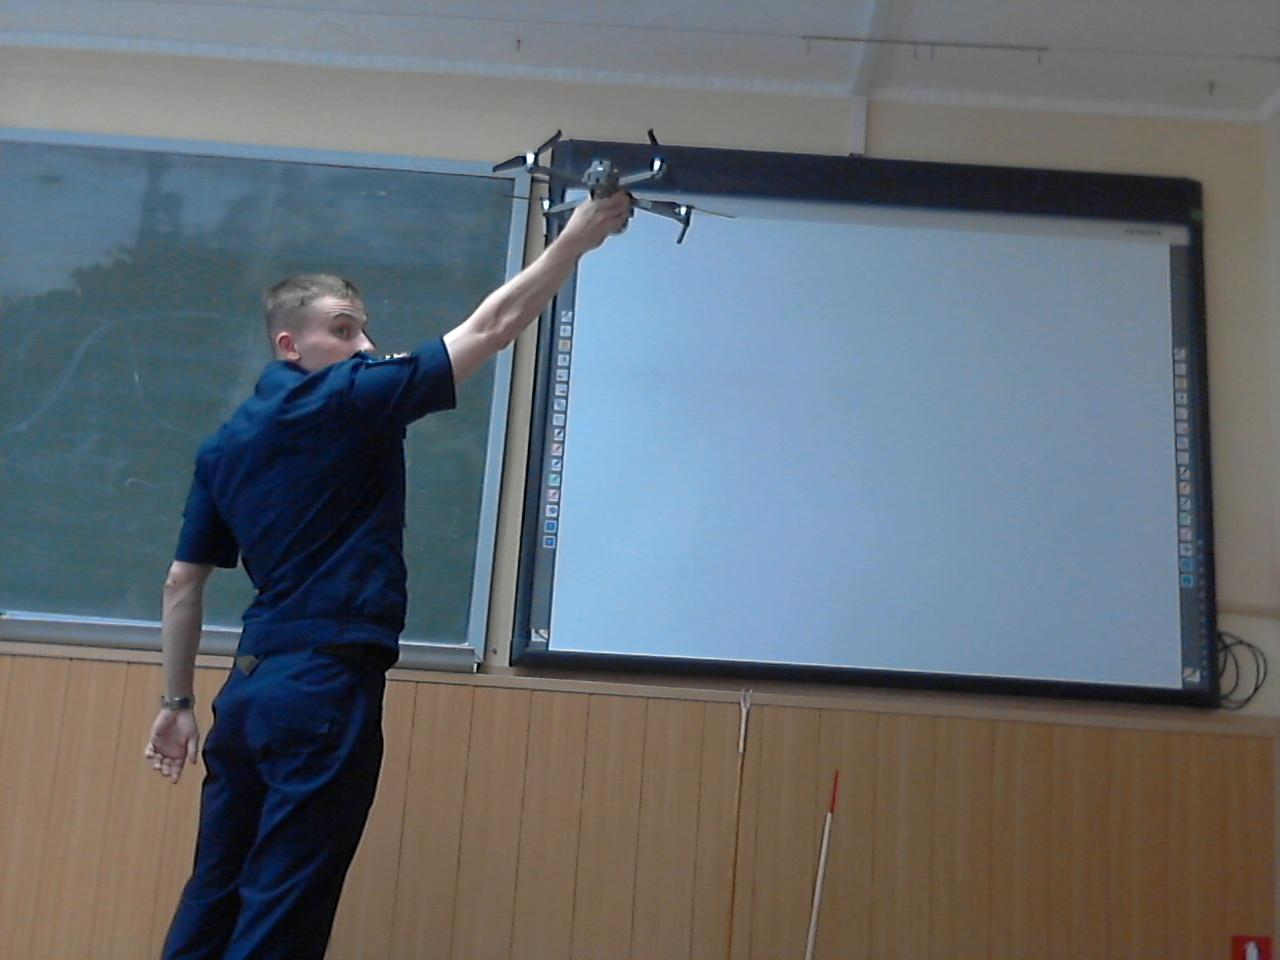drone: (486, 106, 716, 260)
